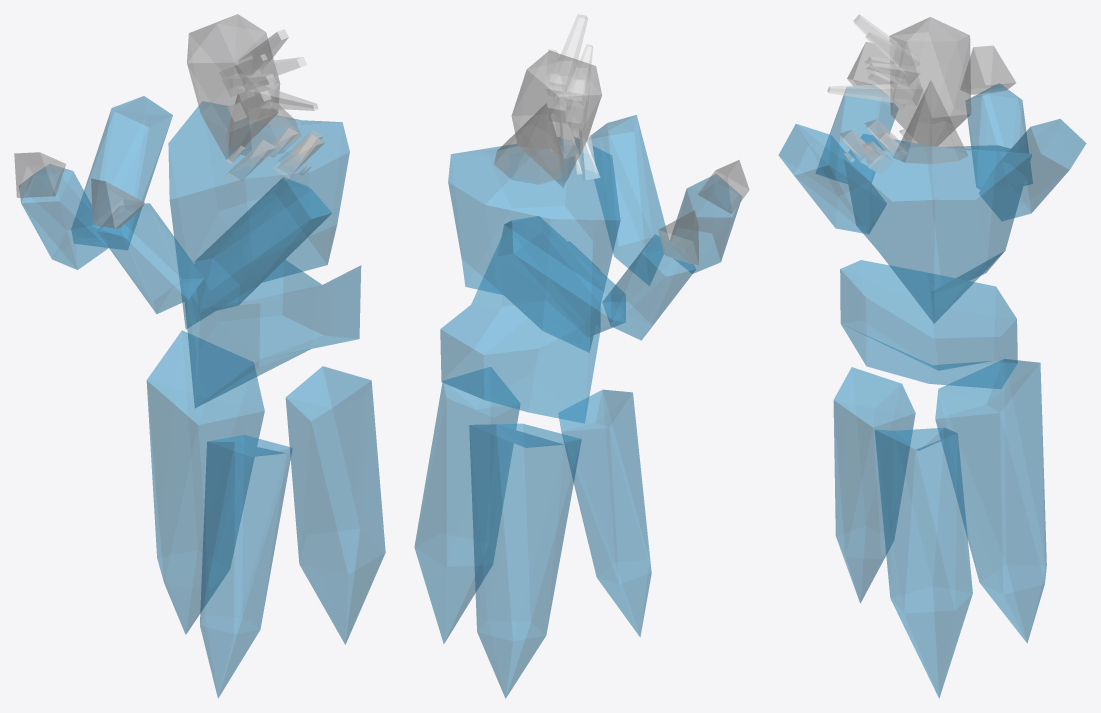
The model's file is ghostDistanceAttack18.obj.
The picture shows the model from 3 angles, left to right: view 1: azimuth 30°, elevation 25°; view 2: azimuth 150°, elevation 25°; view 3: azimuth 270°, elevation 25°; orthographic projection. The views are drawn at different scales.
Parts seen in each view (by area): view 1: Cube.001_Cube.007, Icosphere.020, Icosphere.019, Icosphere.018, Cube_Cube.007, Icosphere.005_Icosphere.007, Icosphere.003_Icosphere.007, Icosphere.007_Icosphere.006, Icosphere.006_Icosphere.006, Icosphere.008_Icosphere.006, Cone_Cone.007, Cube.003_Cube.007 (+9 smaller); view 2: Cube.001_Cube.007, Icosphere.020, Icosphere.019, Cube_Cube.007, Icosphere.018, Icosphere.005_Icosphere.007, Icosphere.003_Icosphere.007, Icosphere.007_Icosphere.006, Icosphere.008_Icosphere.006, Icosphere.006_Icosphere.006, Cone_Cone.007, Cube.002_Cube.007 (+4 smaller); view 3: Cube.001_Cube.007, Icosphere.020, Icosphere.019, Cube_Cube.007, Icosphere.018, Icosphere.003_Icosphere.007, Icosphere.005_Icosphere.007, Icosphere.007_Icosphere.006, Icosphere.008_Icosphere.006, Icosphere.006_Icosphere.006, Cone_Cone.007, Cube.003_Cube.007 (+6 smaller).
Part boxes in pixels (x1,y1,x2,y2): Cube.001_Cube.007: (168, 101, 349, 329); Icosphere.020: (146, 330, 264, 634); Icosphere.019: (285, 366, 385, 644); Icosphere.018: (200, 435, 292, 698); Cube_Cube.007: (185, 260, 361, 407); Icosphere.005_Icosphere.007: (194, 177, 331, 314); Icosphere.003_Icosphere.007: (187, 14, 280, 159); Icosphere.007_Icosphere.006: (71, 96, 172, 249); Icosphere.006_Icosphere.006: (97, 203, 203, 313); Icosphere.008_Icosphere.006: (19, 164, 108, 269); Cone_Cone.007: (226, 94, 300, 155); Cube.003_Cube.007: (14, 152, 65, 197); Cube.001_Cube.007: (448, 137, 620, 352); Icosphere.020: (469, 423, 581, 698); Icosphere.019: (414, 367, 519, 643); Cube_Cube.007: (440, 240, 600, 423); Icosphere.018: (558, 389, 651, 636); Icosphere.005_Icosphere.007: (587, 115, 668, 285); Icosphere.003_Icosphere.007: (511, 50, 601, 187); Icosphere.007_Icosphere.006: (498, 216, 625, 337); Icosphere.008_Icosphere.006: (602, 234, 695, 340); Icosphere.006_Icosphere.006: (670, 174, 741, 273); Cone_Cone.007: (494, 103, 563, 184); Cube.002_Cube.007: (698, 160, 749, 213); Cube.001_Cube.007: (843, 134, 1031, 323); Icosphere.020: (935, 359, 1046, 642); Icosphere.019: (874, 427, 972, 698); Cube_Cube.007: (840, 260, 1017, 389); Icosphere.018: (833, 367, 915, 603); Icosphere.003_Icosphere.007: (889, 17, 971, 146); Icosphere.005_Icosphere.007: (778, 124, 886, 233); Icosphere.007_Icosphere.006: (979, 119, 1086, 220); Icosphere.008_Icosphere.006: (965, 83, 1032, 189); Icosphere.006_Icosphere.006: (816, 86, 898, 183); Cone_Cone.007: (893, 80, 968, 164); Cube.003_Cube.007: (960, 45, 1015, 94).
Size of the model in its own units: 22.87 by 45.09 by 19.86.
